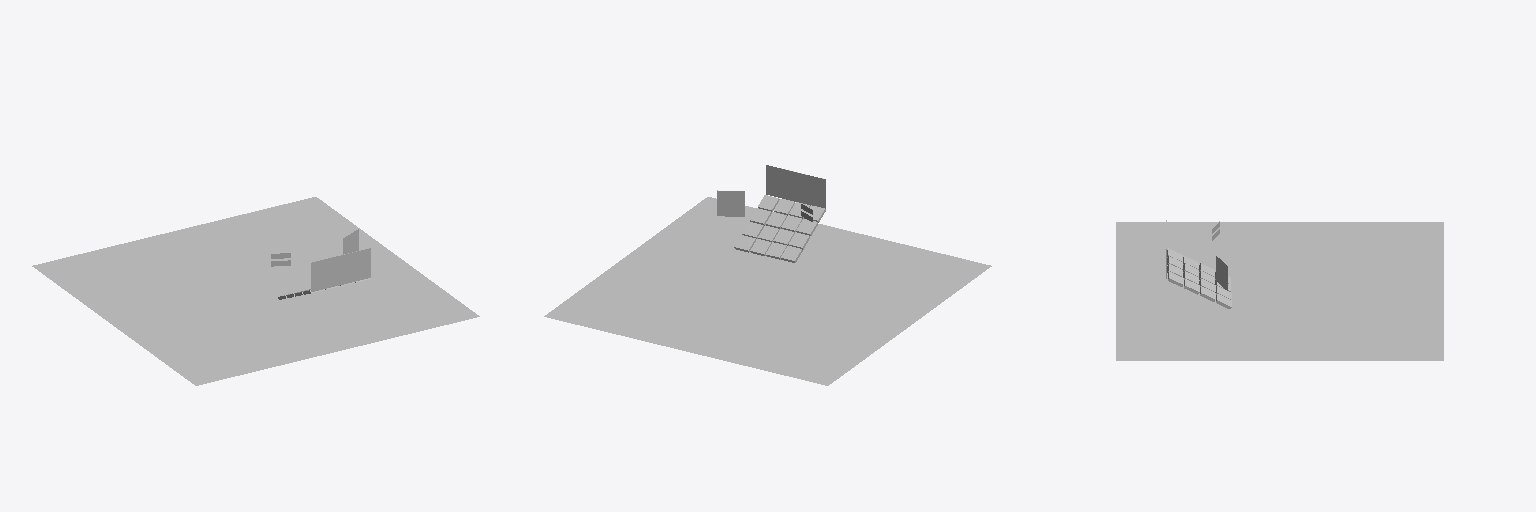
The model's file is unityexport.obj.
3 views of the same model, side by side, from view 1: azimuth 30°, elevation 25°; view 2: azimuth 150°, elevation 25°; view 3: azimuth 270°, elevation 25° (orthographic).
Visible parts, largest first — view 1: Plane, Cube; view 2: Plane, Cube, Cube (2); view 3: Plane.
Boxes of the visible parts, x1,y1,x2,y2 form: Plane: [32, 197, 479, 385]; Cube: [311, 248, 370, 291]; Plane: [544, 197, 991, 385]; Cube: [766, 165, 825, 208]; Cube (2): [717, 190, 794, 216]; Plane: [1116, 222, 1443, 360].
Bounding box in the file's own units: 10 × 2.37 × 10.